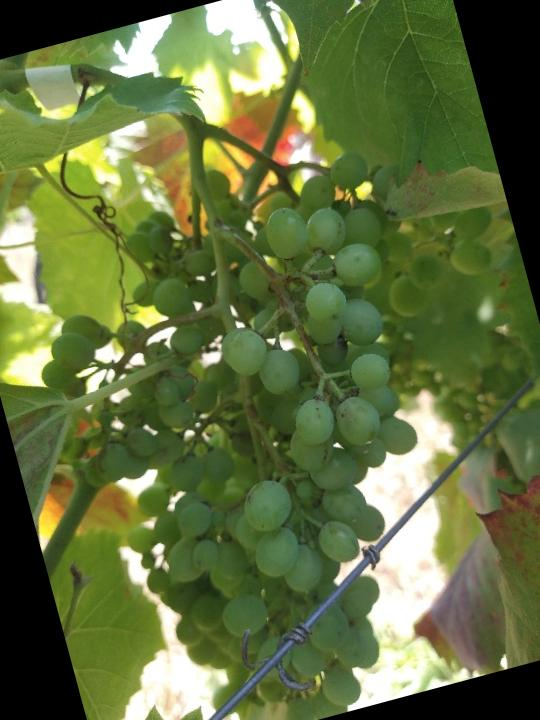grape: (0, 97, 540, 720)
